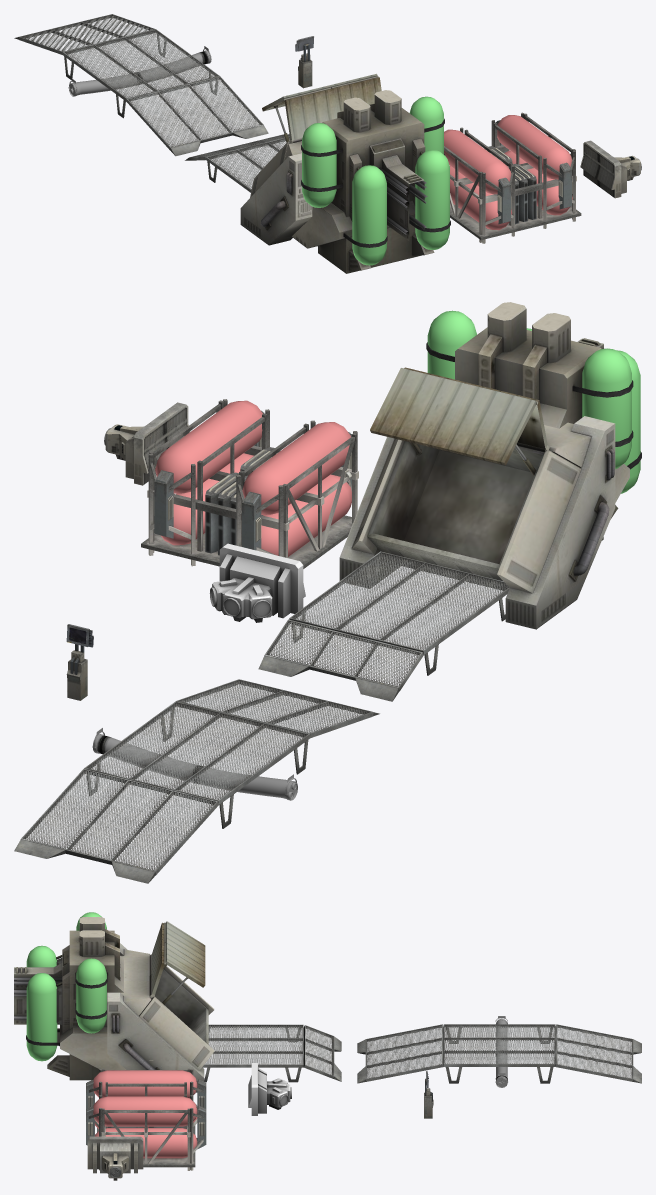
File: regolith_plant.glb
The picture shows the model from 3 angles, top to bottom: view 1: azimuth 30°, elevation 25°; view 2: azimuth 150°, elevation 25°; view 3: azimuth 270°, elevation 25°; orthographic projection. The views are drawn at different scales.
Parts seen in each view (by area): view 1: Digester, Ramp, O2Tank, CouplingSingle, Terminal; view 2: Digester, Ramp, O2Tank, CouplingTriple, CouplingSingle, Terminal; view 3: Digester, Ramp, O2Tank, CouplingSingle, CouplingTriple.
Part boxes in pixels (<box>): Digester: <box>185,73,450,273</box>; Ramp: <box>14,14,268,156</box>; O2Tank: <box>444,112,581,243</box>; CouplingSingle: <box>580,140,641,198</box>; Terminal: <box>295,36,313,88</box>; Digester: <box>258,302,641,701</box>; Ramp: <box>14,679,379,883</box>; O2Tank: <box>141,399,358,568</box>; CouplingTriple: <box>209,543,305,622</box>; CouplingSingle: <box>104,402,190,485</box>; Terminal: <box>66,624,93,700</box>; Digester: <box>14,912,341,1092</box>; Ramp: <box>357,1016,641,1087</box>; O2Tank: <box>86,1068,206,1170</box>; CouplingSingle: <box>87,1136,143,1180</box>; CouplingTriple: <box>248,1063,291,1115</box>.
Bounding box in the file's own units: 3.53 × 1.66 × 6.13.
14 materials, 11 textured.
